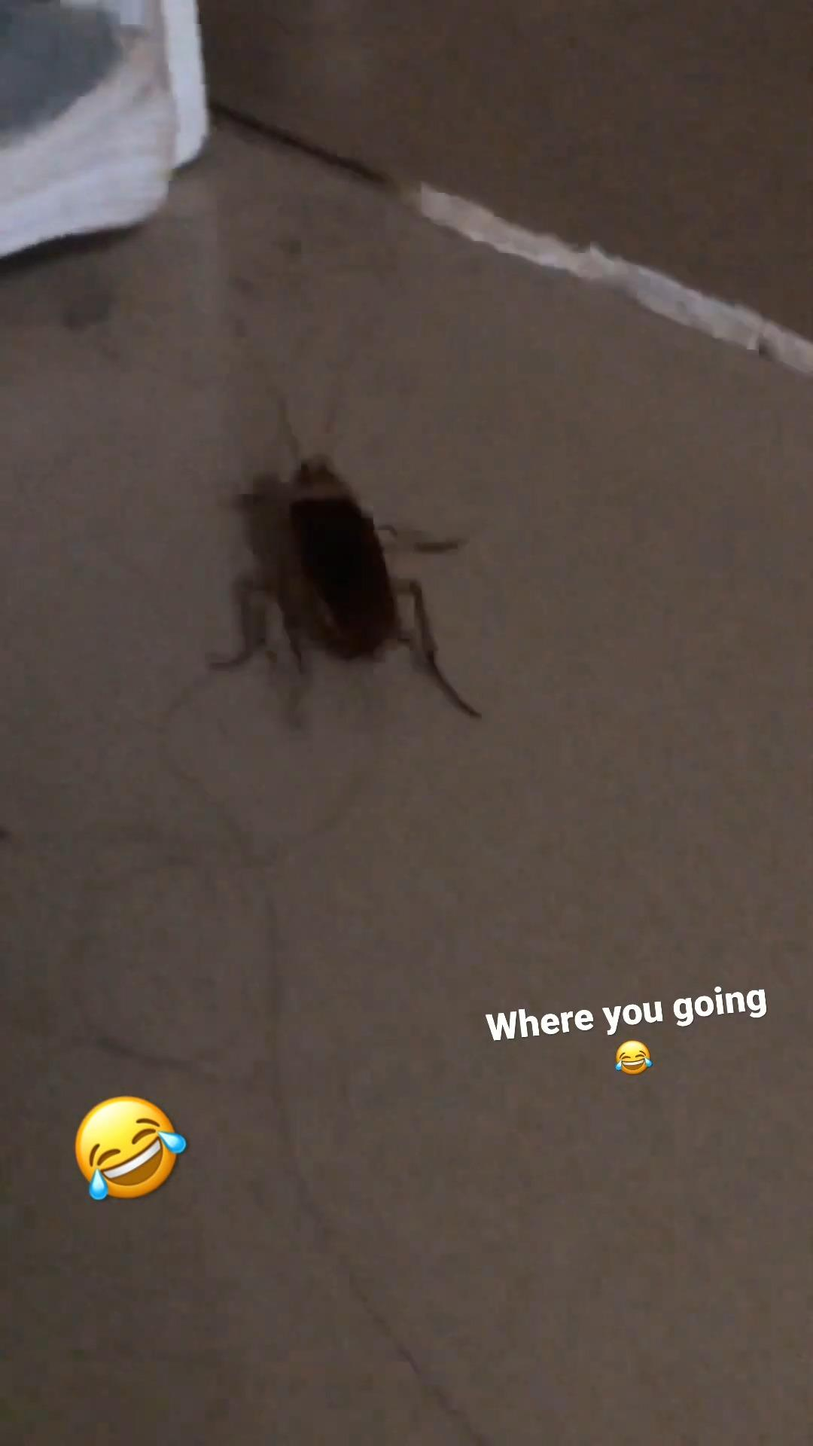cockroach: (155, 366, 529, 763)
